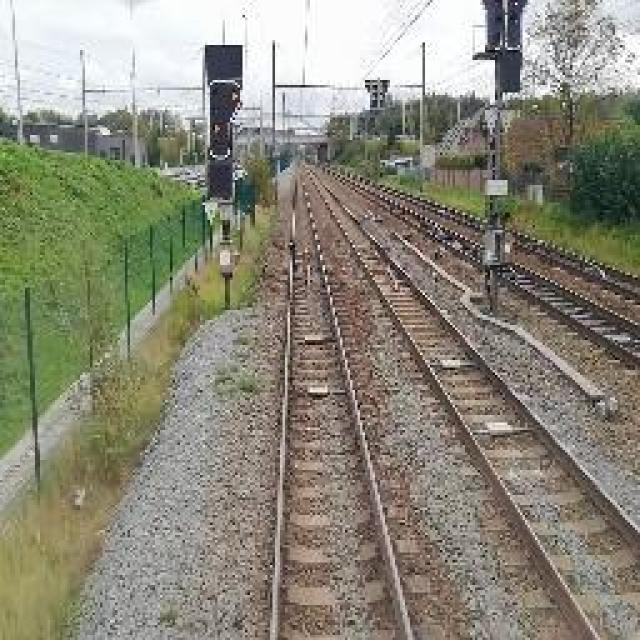rail: (245, 168, 444, 640)
